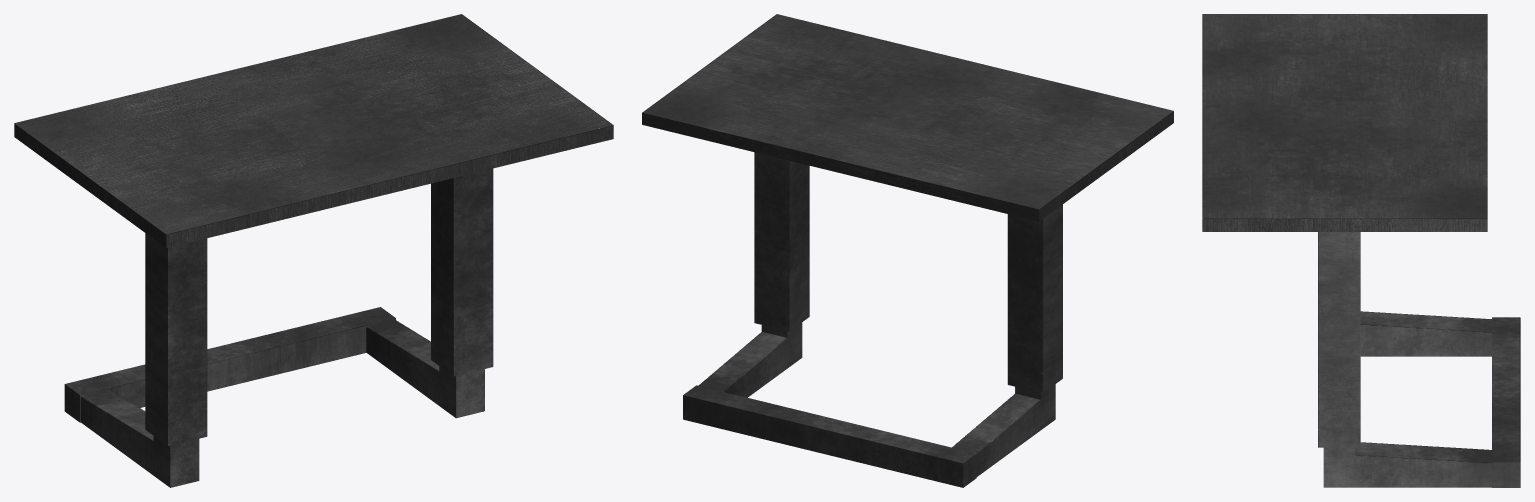
Rendered from Bed_Table.fbx.
The picture shows the model from 3 angles, left to right: view 1: azimuth 30°, elevation 25°; view 2: azimuth 150°, elevation 25°; view 3: azimuth 270°, elevation 25°; orthographic projection. The views are drawn at different scales.
Parts seen in each view (by area): view 1: Bed Table; view 2: Bed Table; view 3: Bed Table.
Part boxes in pixels (left/top/right/bottom): Bed Table: left=14, top=14, right=613, bottom=487; Bed Table: left=642, top=14, right=1173, bottom=487; Bed Table: left=1202, top=14, right=1520, bottom=487.
Size of the model in its own units: 1700 by 1153 by 1115.
Materials: 1 (1 with a texture image).
